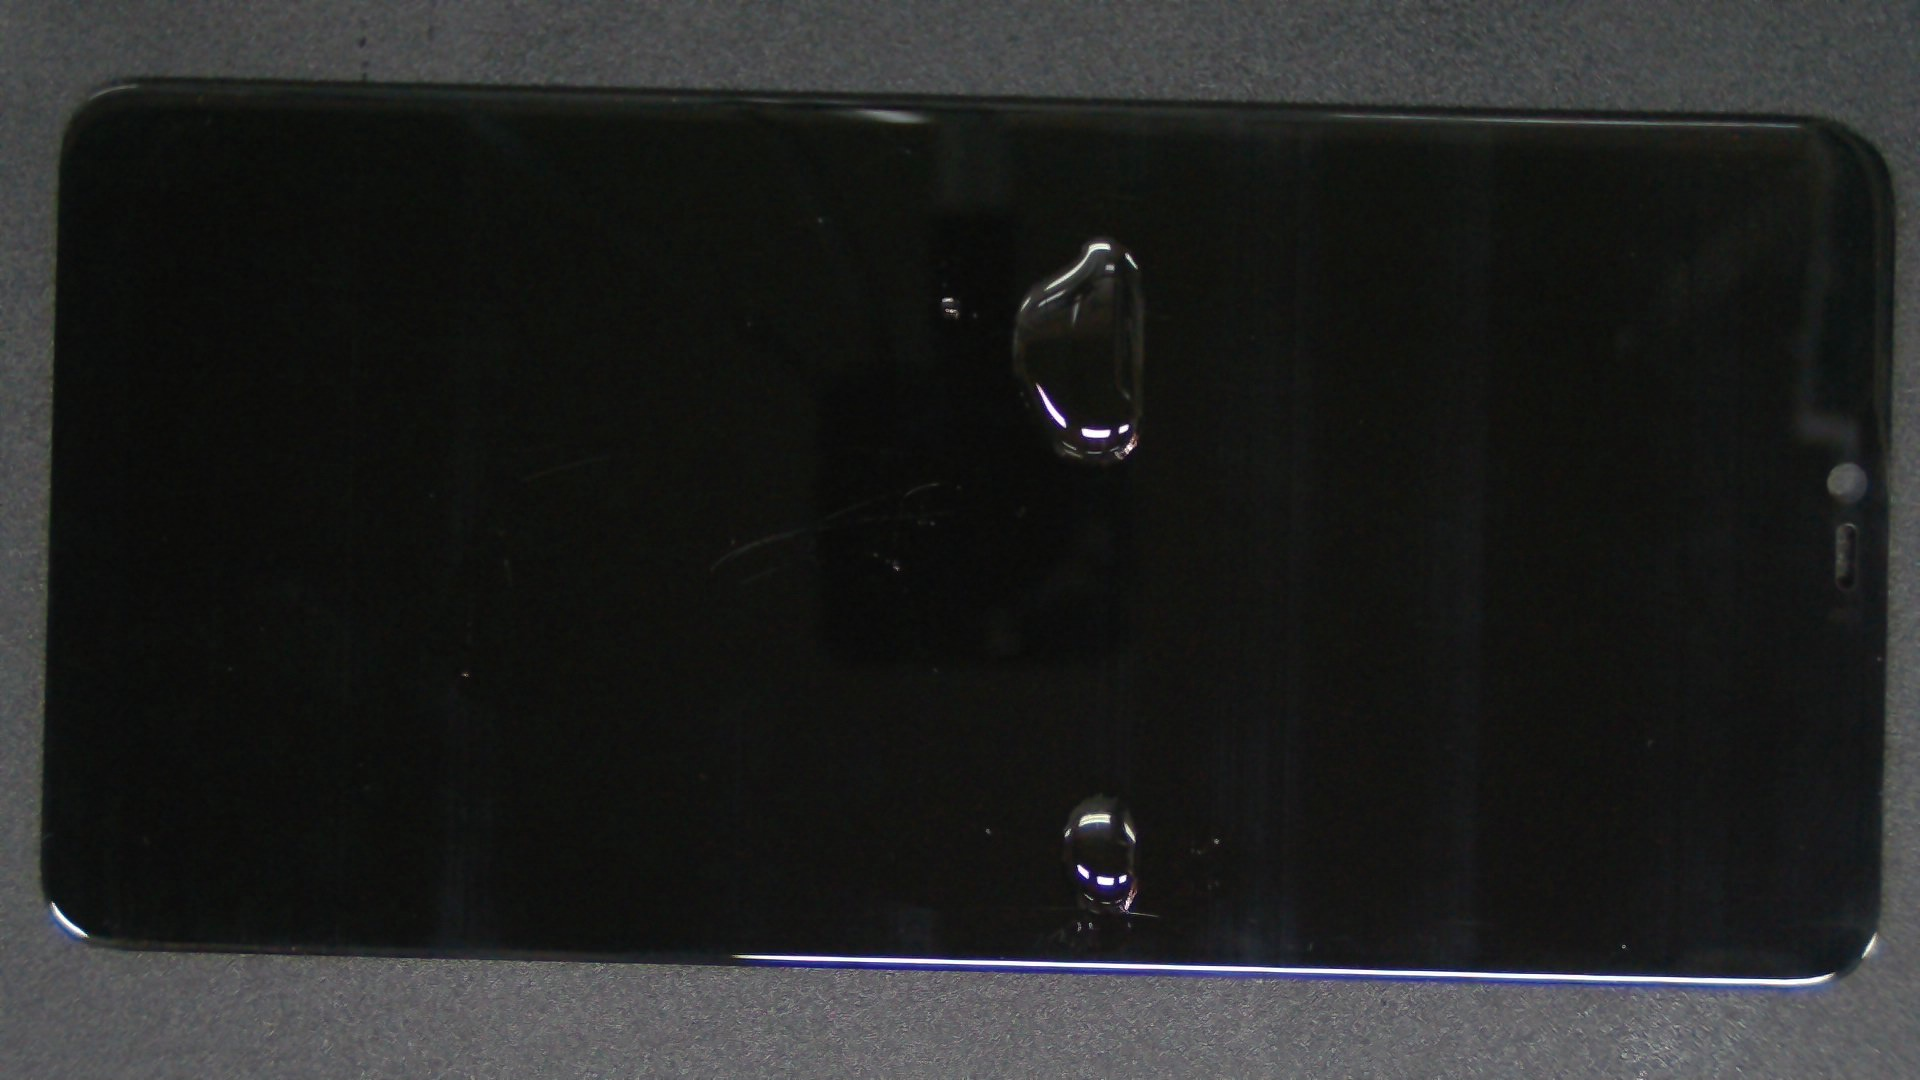oil: (551, 396, 1652, 1080), (477, 148, 1429, 444), (554, 116, 1662, 352)
